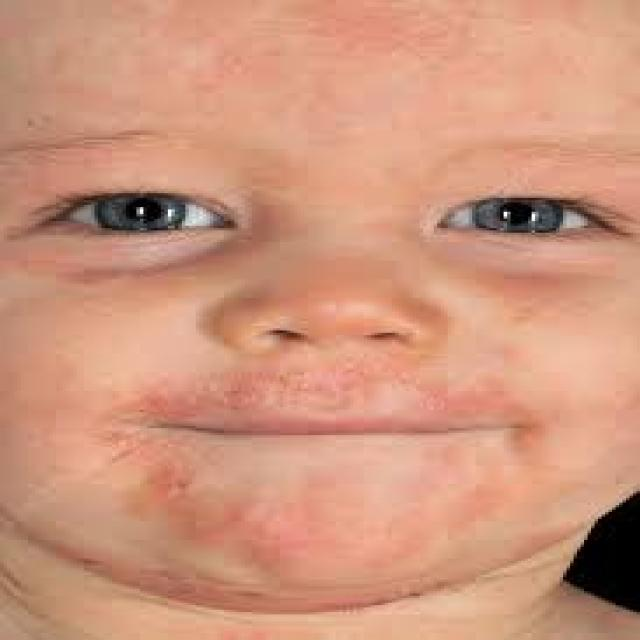Eczema: (69, 382, 558, 495), (227, 8, 491, 65)
